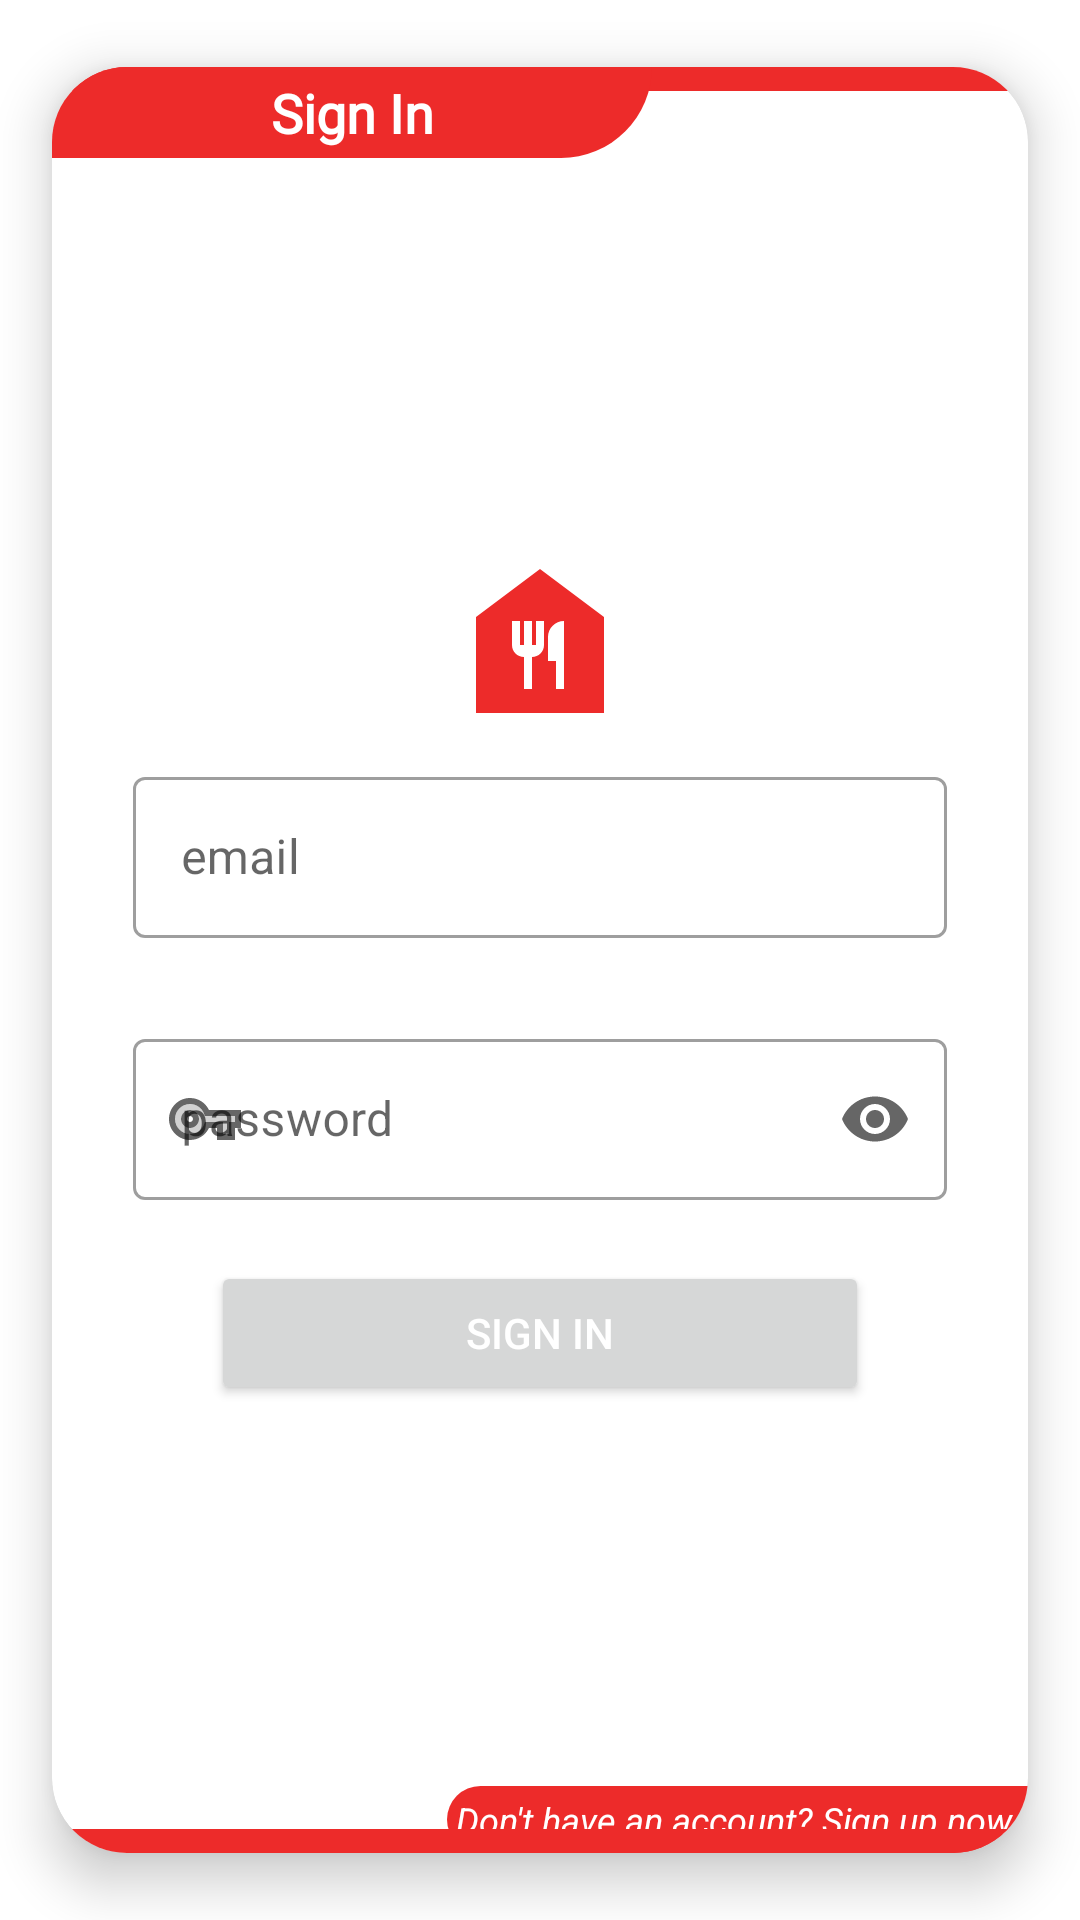

Where icons sit on this 1080x1920 app screen, as (x1, y1, x2, y2):
food: (476, 569, 604, 713)
